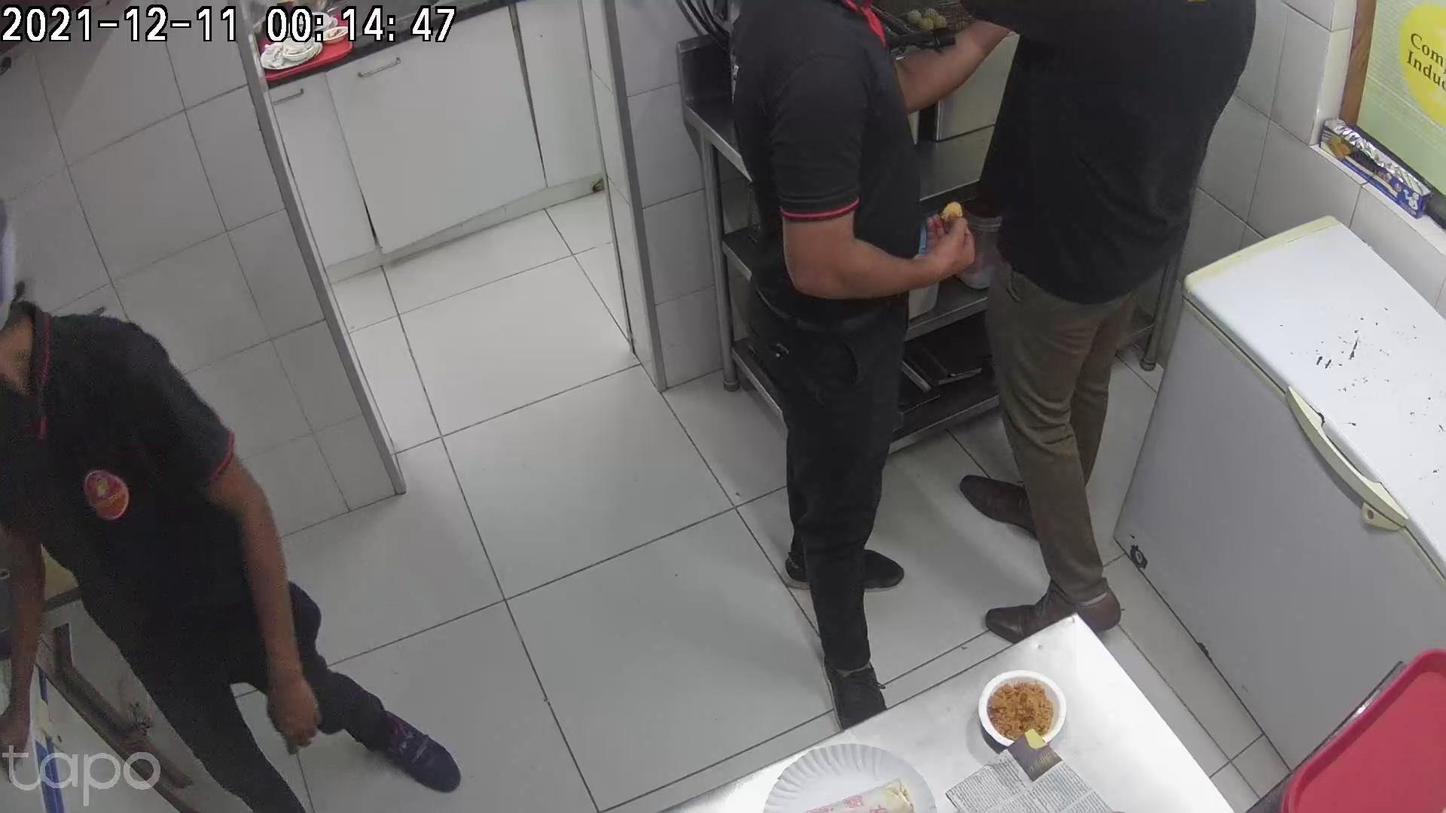no_gloves: (652, 652, 756, 736)
